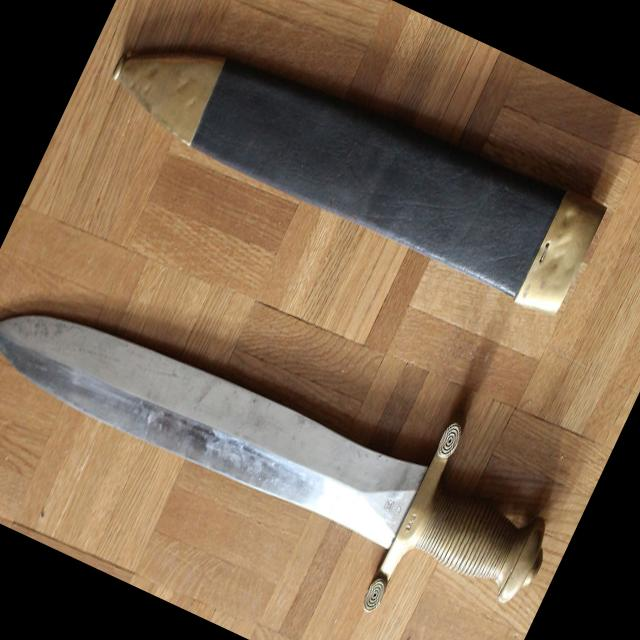Weapon: (0, 216, 585, 640)
